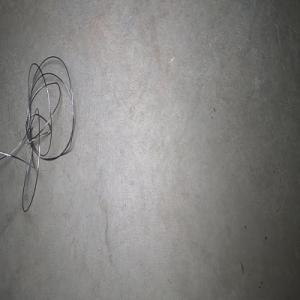Wire: (0, 56, 74, 212)
